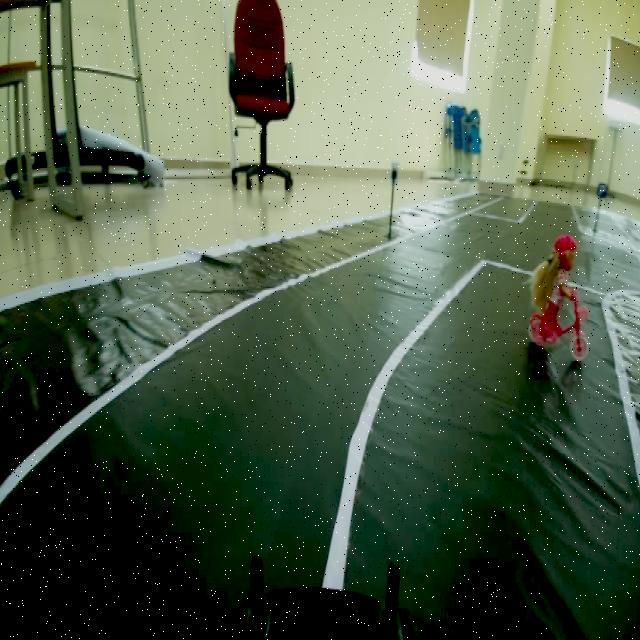pedestrian: (530, 221, 594, 356)
